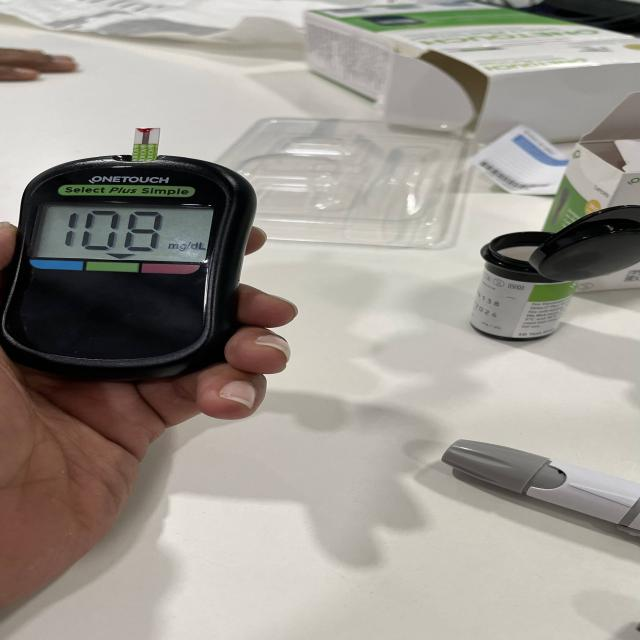gluco: (0, 129, 256, 394)
